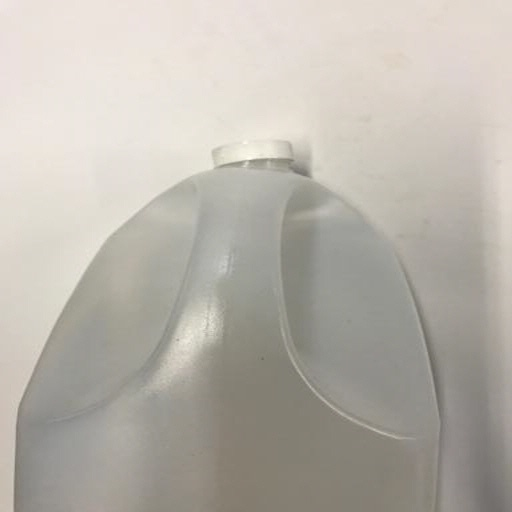Plastic_1: (19, 139, 443, 512)
